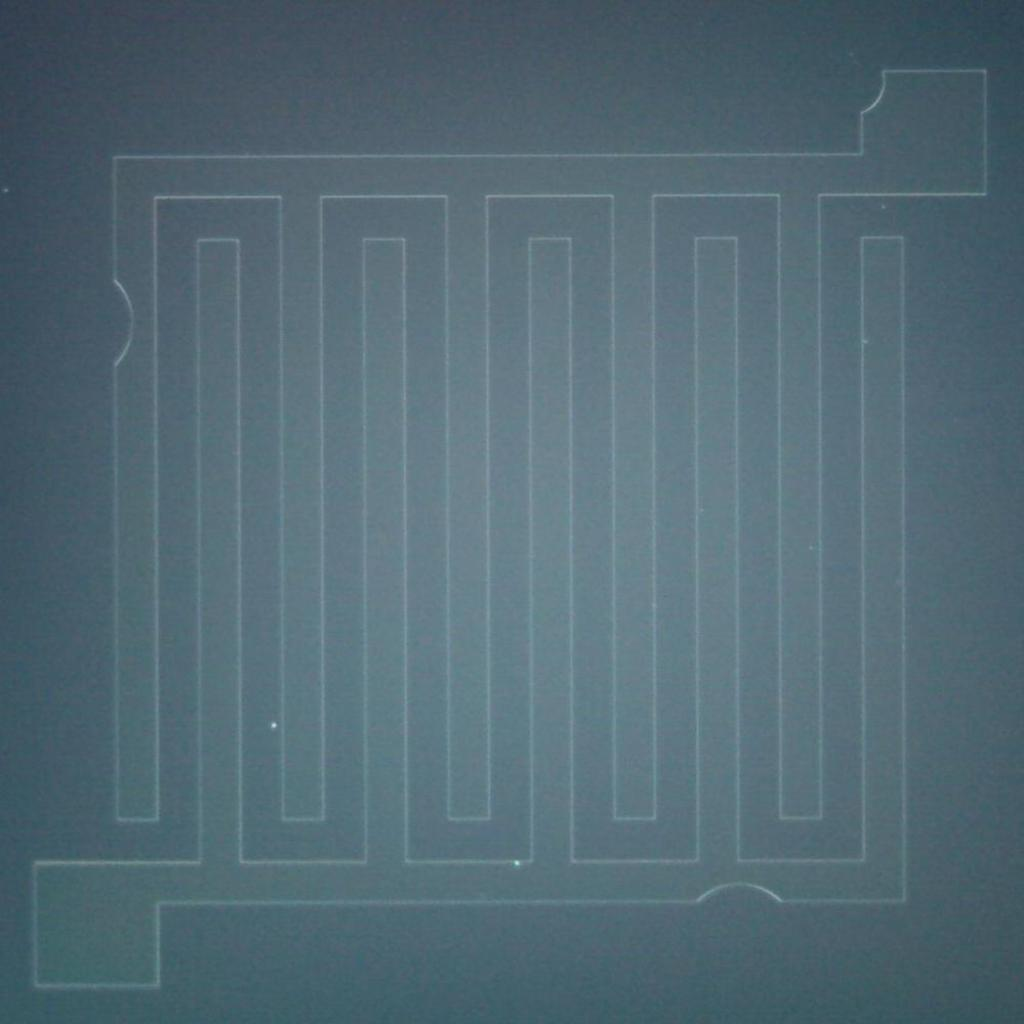curve circuit: (680, 872, 796, 922), (92, 264, 141, 377), (847, 61, 899, 130)
dot: (500, 851, 529, 876), (263, 713, 286, 740)
